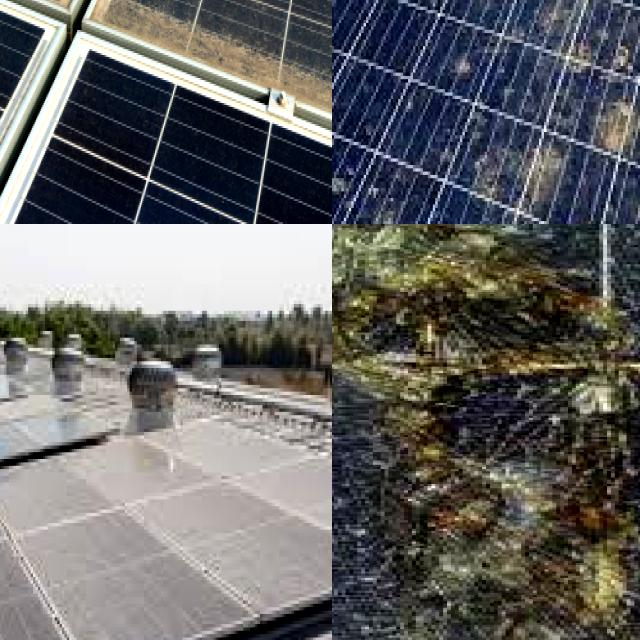bird: (510, 138, 576, 204), (462, 0, 554, 46), (586, 25, 640, 88), (588, 95, 640, 158), (444, 34, 486, 88), (332, 164, 367, 208), (520, 0, 552, 46), (332, 45, 369, 77), (588, 0, 634, 24), (565, 213, 602, 224)
dust: (111, 0, 332, 130), (209, 475, 332, 579), (0, 94, 96, 224), (63, 538, 184, 636), (220, 0, 332, 99), (18, 0, 199, 60), (0, 568, 80, 640), (0, 0, 92, 49), (0, 0, 105, 41), (0, 0, 87, 36)
shadow: (332, 388, 640, 640), (332, 224, 640, 370)
